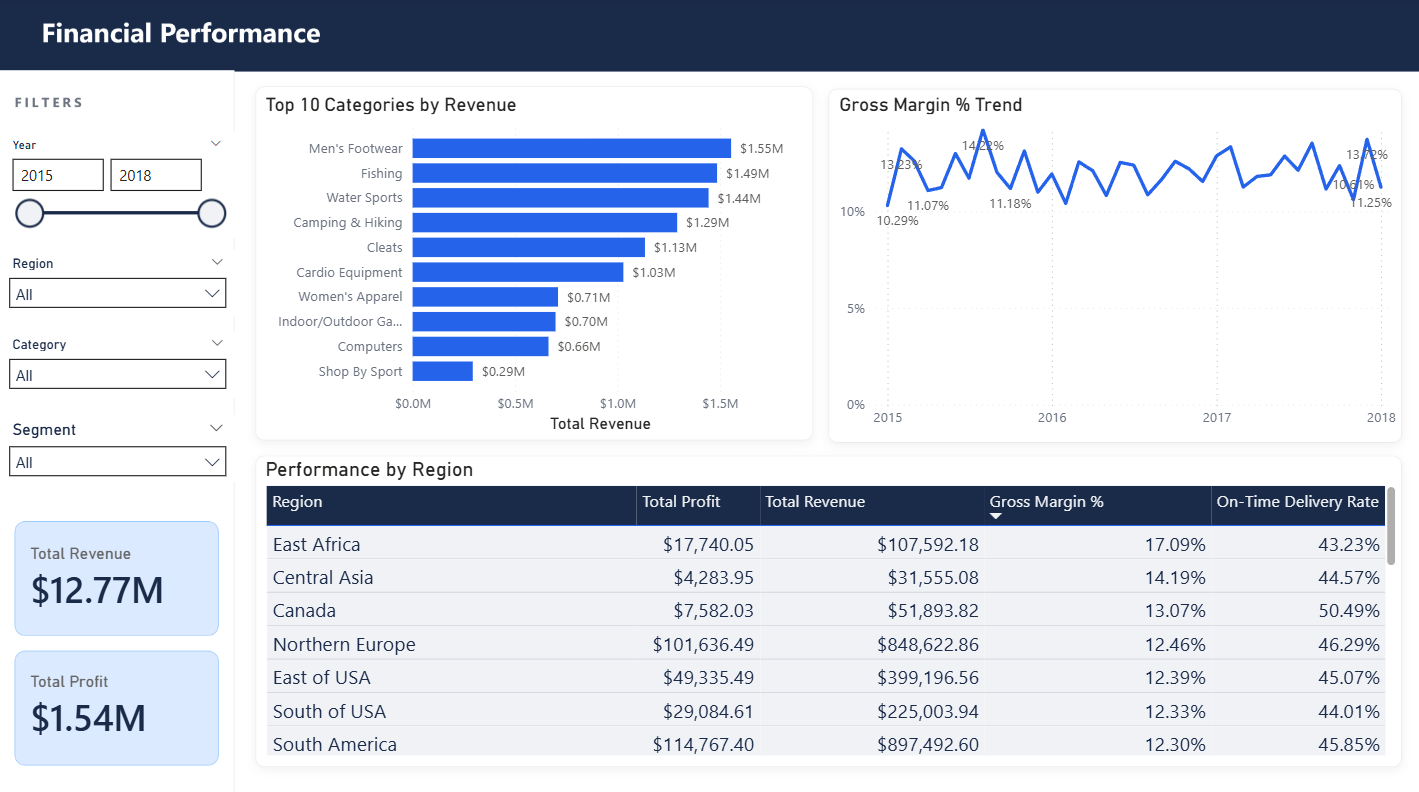

This screenshot's page, from the dashboard's own definition file:
{"tool":"powerbi","page":{"name":"Money","canvas":[1280,720],"ordinal":3},"visuals":[{"type":"textbox","box":[82,34,130,28],"z":1100},{"type":"textbox","box":[82,56,130,20],"z":1200},{"type":"textbox","box":[76,112,120,20],"z":1300},{"type":"textbox","box":[76,162,120,20],"z":1400},{"type":"textbox","box":[76,212,120,20],"z":1500},{"type":"textbox","box":[76,262,120,20],"z":1600},{"type":"textbox","box":[76,312,120,20],"z":1700},{"type":"textbox","box":[44,566,152,108],"z":1800},{"type":"textbox","box":[232,46,370,18],"z":1900},{"type":"textbox","box":[232,76,1008,36],"z":2000},{"type":"textbox","box":[624,49,52,18],"z":2100},{"type":"slicer","fields":{"Values":["dim_shipping_mode.shipping_mode"]},"box":[672,42,138,32],"z":2200},{"type":"textbox","box":[834,49,52,18],"z":2300},{"type":"slicer","fields":{"Values":["dim_geography.market"]},"box":[882,42,138,32],"z":2400},{"type":"textbox","box":[1044,49,52,18],"z":2500},{"type":"slicer","fields":{"Values":["dim_customer.customer_segment"]},"box":[1092,42,138,32],"z":2600},{"type":"textbox","box":[242,138,308,18],"z":2700},{"type":"card","fields":{"Values":["_Measures.Profit"]},"box":[238,156,316,34],"z":2800},{"type":"textbox","box":[242,190,308,16],"z":2900},{"type":"textbox","box":[582,138,308,18],"z":3000},{"type":"card","fields":{"Values":["_Measures.Profit Margin %"]},"box":[578,156,316,34],"z":3100},{"type":"textbox","box":[582,190,308,16],"z":3200},{"type":"textbox","box":[922,138,308,18],"z":3300},{"type":"card","fields":{"Values":["_Measures.Loss-Making Orders %"]},"box":[918,156,316,34],"z":3400},{"type":"textbox","box":[922,190,308,16],"z":3500},{"type":"textbox","box":[252,242,288,22],"z":3600},{"type":"textbox","box":[252,264,288,18],"z":3700},{"type":"clusteredBarChart","fields":{"Category":["dim_product.category_name"],"Y":["_Measures.Profit (Top 8 Categories)"]},"box":[242,290,308,380],"z":3800},{"type":"textbox","box":[592,242,335,22],"z":3900},{"type":"textbox","box":[592,264,335,18],"z":4000},{"type":"scatterChart","fields":{"Category":["dim_geography.country"],"Size":["_Measures.Orders"],"X":["_Measures.Revenue"],"Y":["_Measures.Profit Margin % (300+ Orders)"]},"box":[582,290,355,330],"z":4100},{"type":"textbox","box":[592,630,335,40],"z":4200},{"type":"textbox","box":[979,242,241,22],"z":4300},{"type":"textbox","box":[979,264,241,18],"z":4400},{"type":"clusteredBarChart","fields":{"Category":["dim_geography.market"],"Y":["_Measures.Profit Margin %"]},"box":[969,284,261,156],"z":4500},{"type":"textbox","box":[979,480,241,18],"z":4600},{"type":"textbox","box":[979,502,241,110],"z":4700},{"type":"textbox","box":[979,631,241,20],"z":4800},{"type":"actionButton","box":[979,620,241,40],"z":4900},{"type":"actionButton","box":[32,100,176,44],"z":5000},{"type":"actionButton","box":[32,150,176,44],"z":5100},{"type":"actionButton","box":[32,200,176,44],"z":5200},{"type":"actionButton","box":[32,250,176,44],"z":5300},{"type":"actionButton","box":[32,300,176,44],"z":5400}]}

Visuals, with their boxes in screenshot pixels (x1, y1, x2, y2), scaled from the page's 1280x720 canvas onto the 1419x792 screenshot:
textbox: [91,37,235,68]
textbox: [91,62,235,84]
textbox: [84,123,217,145]
textbox: [84,178,217,200]
textbox: [84,233,217,255]
textbox: [84,288,217,310]
textbox: [84,343,217,365]
textbox: [49,623,217,741]
textbox: [257,51,667,70]
textbox: [257,84,1375,123]
textbox: [692,54,749,74]
slicer - dim_shipping_mode.shipping_mode: [745,46,898,81]
textbox: [925,54,982,74]
slicer - dim_geography.market: [978,46,1131,81]
textbox: [1157,54,1215,74]
slicer - dim_customer.customer_segment: [1211,46,1364,81]
textbox: [268,152,610,172]
card - _Measures.Profit: [264,172,614,209]
textbox: [268,209,610,227]
textbox: [645,152,987,172]
card - _Measures.Profit Margin %: [641,172,991,209]
textbox: [645,209,987,227]
textbox: [1022,152,1364,172]
card - _Measures.Loss-Making Orders %: [1018,172,1368,209]
textbox: [1022,209,1364,227]
textbox: [279,266,599,290]
textbox: [279,290,599,310]
clusteredBarChart - dim_product.category_name x _Measures.Profit (Top 8 Categories): [268,319,610,737]
textbox: [656,266,1028,290]
textbox: [656,290,1028,310]
scatterChart - dim_geography.country x _Measures.Orders: [645,319,1039,682]
textbox: [656,693,1028,737]
textbox: [1085,266,1352,290]
textbox: [1085,290,1352,310]
clusteredBarChart - dim_geography.market x _Measures.Profit Margin %: [1074,312,1364,484]
textbox: [1085,528,1352,548]
textbox: [1085,552,1352,673]
textbox: [1085,694,1352,716]
actionButton: [1085,682,1352,726]
actionButton: [35,110,231,158]
actionButton: [35,165,231,213]
actionButton: [35,220,231,268]
actionButton: [35,275,231,323]
actionButton: [35,330,231,378]
